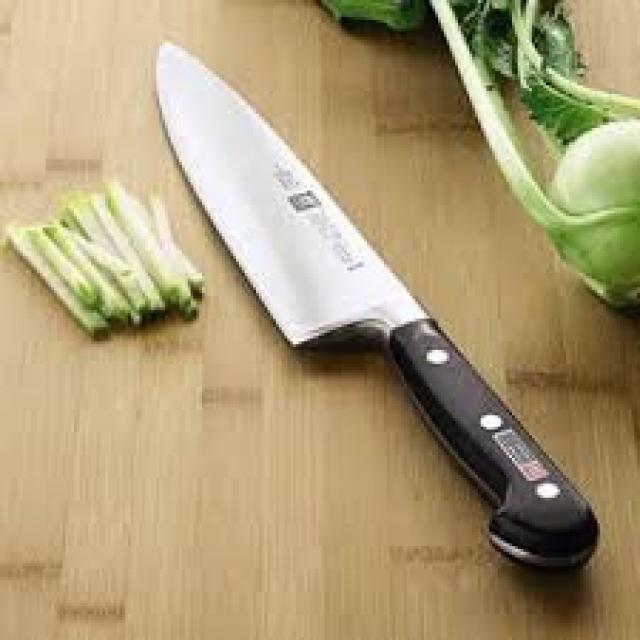Knife: (154, 43, 597, 566)
